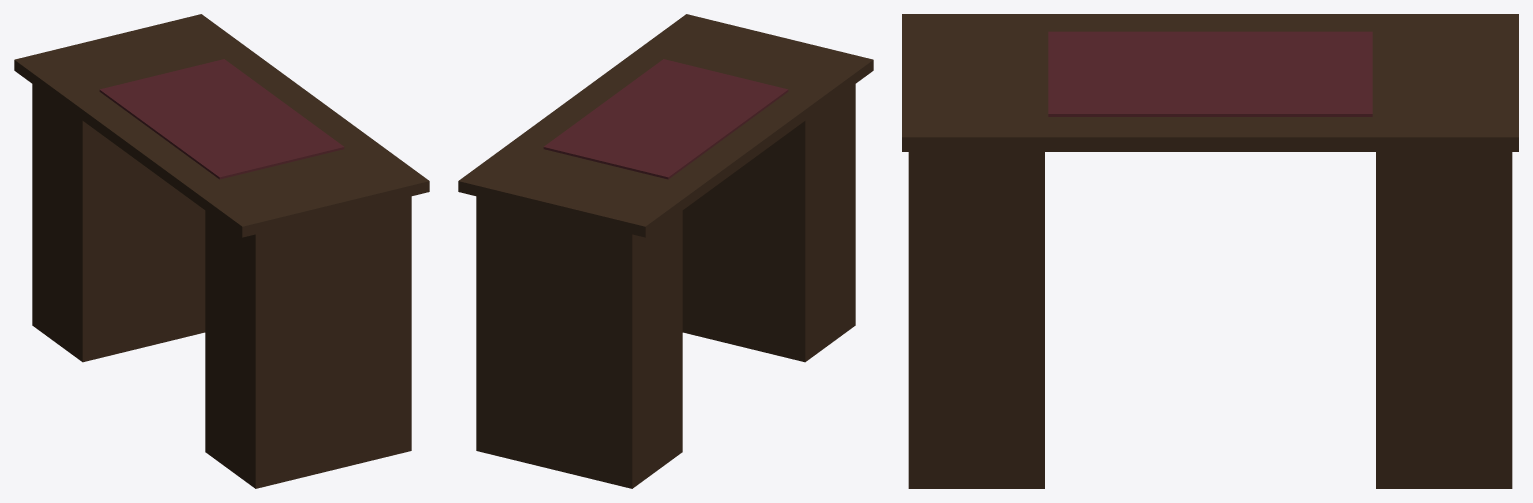
File: SM_Mob_Calisma_Masasi.fbx
3 views of the same model, side by side, from view 1: azimuth 30°, elevation 25°; view 2: azimuth 150°, elevation 25°; view 3: azimuth 270°, elevation 25° (orthographic). The views are drawn at different scales.
Parts seen in each view (by area): view 1: Mob_Calisma_Masasi; view 2: Mob_Calisma_Masasi; view 3: Mob_Calisma_Masasi.
Boxes of the visible parts, left/top/right/bottom form: Mob_Calisma_Masasi: left=14, top=14, right=429, bottom=488; Mob_Calisma_Masasi: left=458, top=14, right=873, bottom=488; Mob_Calisma_Masasi: left=902, top=14, right=1518, bottom=488.
Size of the model in its own units: 90 by 124 by 190.
